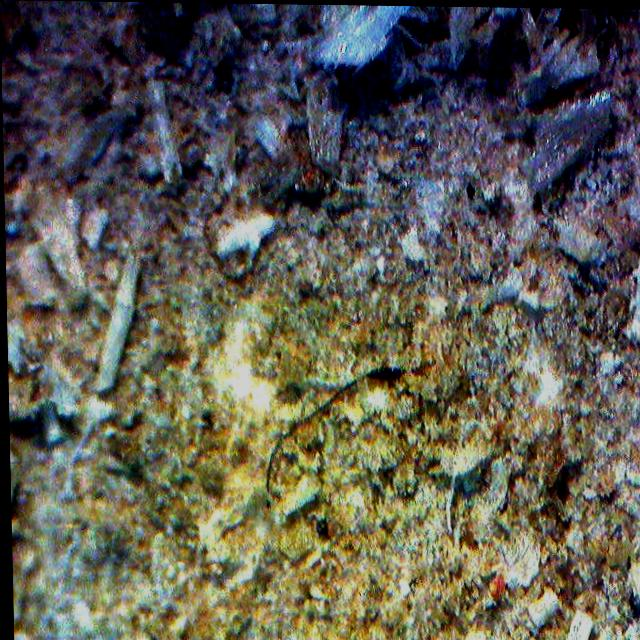microplastic: (264, 371, 365, 491)
